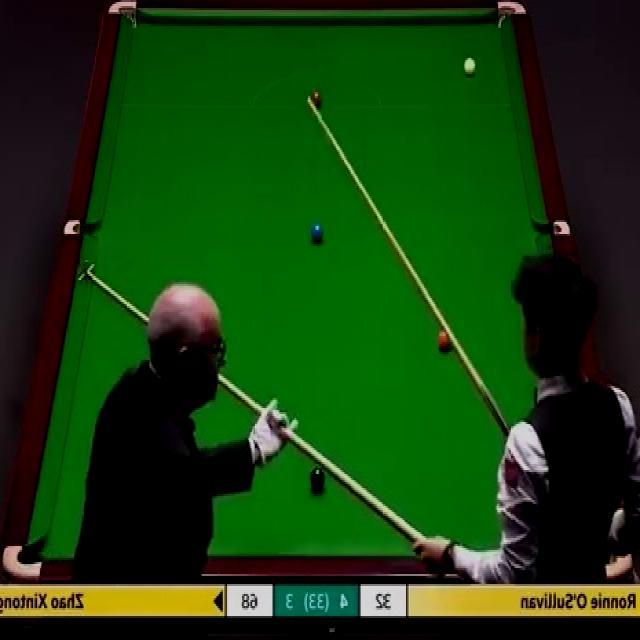pocket: (3, 543, 44, 582), (495, 0, 528, 34), (110, 0, 141, 32), (64, 218, 101, 240), (535, 220, 573, 235)
